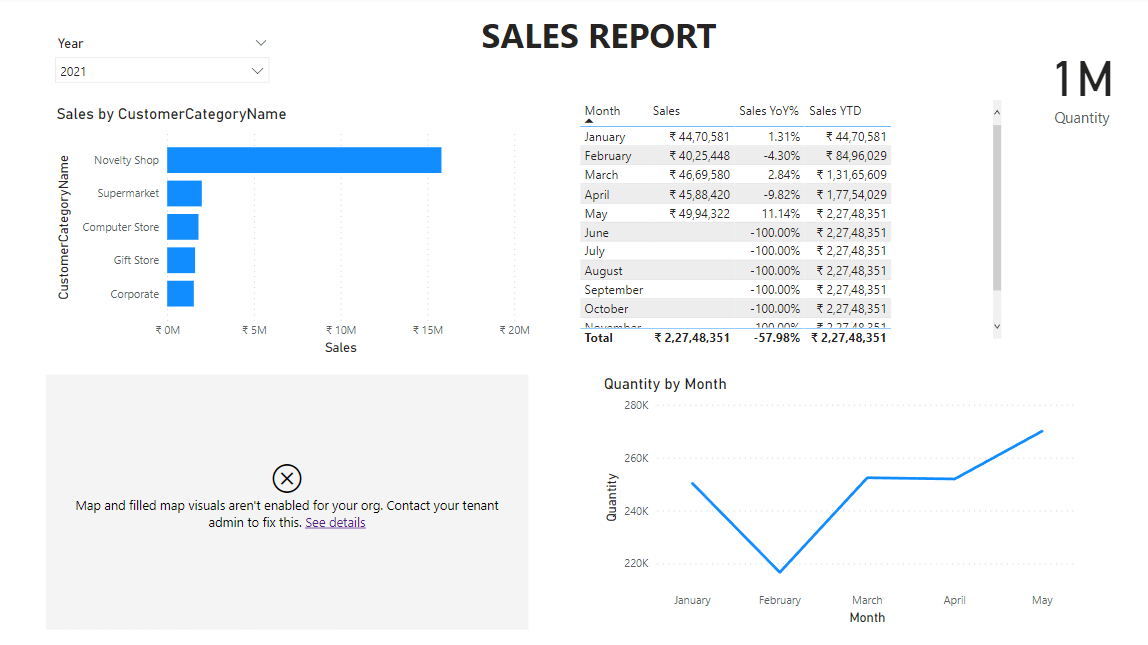

What the dashboard file says about the page in this screenshot:
{"tool":"powerbi","page":{"name":"Report","canvas":[1280,720],"ordinal":0},"visuals":[{"type":"clusteredBarChart","fields":{"Y":["Sum(InvoiceData.Sales)"],"Category":["MasterCustomer.CustomerCategoryName"]},"box":[65.9,119.5,530.1,280.2],"z":0},{"type":"slicer","fields":{"Values":["InvoiceData.Date.Variation.Date Hierarchy.Year"]},"box":[59.1,38.5,255.5,71.4],"z":1000},{"type":"tableEx","fields":{"Values":["InvoiceData.Date.Variation.Date Hierarchy.Month","Sum(InvoiceData.Sales)","InvoiceData.Sales YoY%","InvoiceData.Sales YTD"]},"box":[640,109.9,473.8,280.2],"z":2000},{"type":"filledMap","fields":{"Category":["MasterCustomer.Province"]},"box":[59,416,530,280],"z":3000},{"type":"lineChart","fields":{"Y":["Sum(InvoiceData.Quantity)"],"Category":["InvoiceData.Date.Variation.Date Hierarchy.Month"]},"box":[667,416,530,280],"z":4000},{"type":"textbox","box":[428.5,12.4,476.6,82.4],"z":5000},{"type":"card","fields":{"Values":["Sum(InvoiceData.Quantity)"]},"box":[1128.9,33,137.3,122.2],"z":5001}]}

Visuals, with their boxes in screenshot pixels (x1, y1, x2, y2), scaled from the page's 1280x720 canvas onto the 1148x645 screenshot:
clusteredBarChart - Sum(InvoiceData.Sales) x MasterCustomer.CustomerCategoryName: 59/107/535/358
slicer - InvoiceData.Date.Variation.Date Hierarchy.Year: 53/34/282/98
tableEx - InvoiceData.Date.Variation.Date Hierarchy.Month x Sum(InvoiceData.Sales): 574/98/999/349
filledMap - MasterCustomer.Province: 53/373/528/624
lineChart - Sum(InvoiceData.Quantity) x InvoiceData.Date.Variation.Date Hierarchy.Month: 598/373/1074/624
textbox: 384/11/812/85
card - Sum(InvoiceData.Quantity): 1012/30/1136/139
